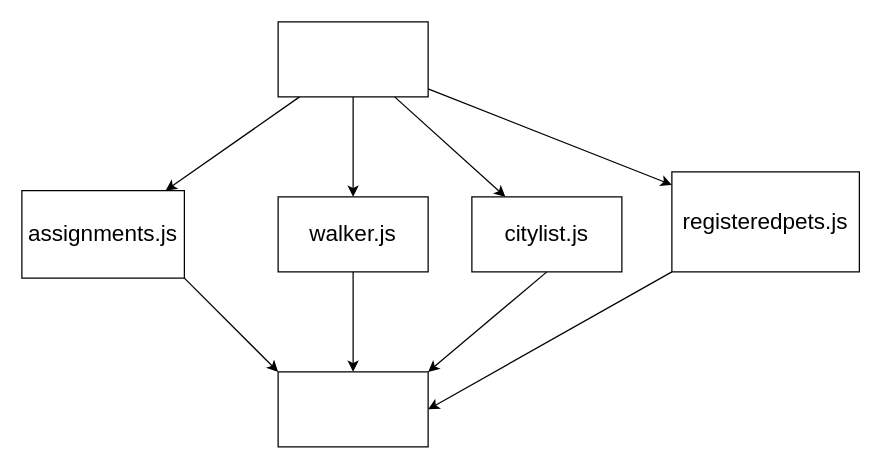
Image size: 881x469. Some labels were removed from this diagram. The shapes that lost their labels are listed below. From the top down, each one's centre as x and y in pixels, then its label:
point 352,59: main.js
point 352,409: database.js
